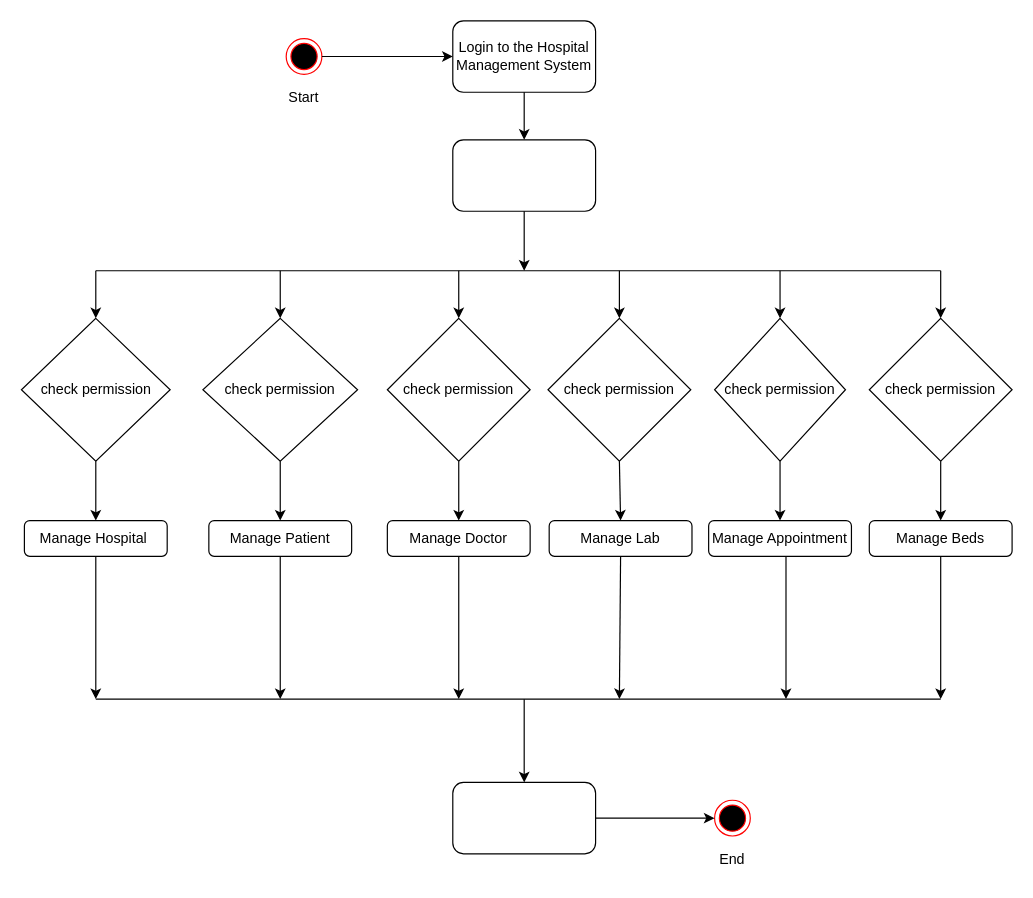
Image size: 1033x898. Some labels were removed from this diagram. The centre of each missing label's shape, as x and y in pixels:
Check username and password: point (524, 175)
Logout From the System: point (524, 817)
